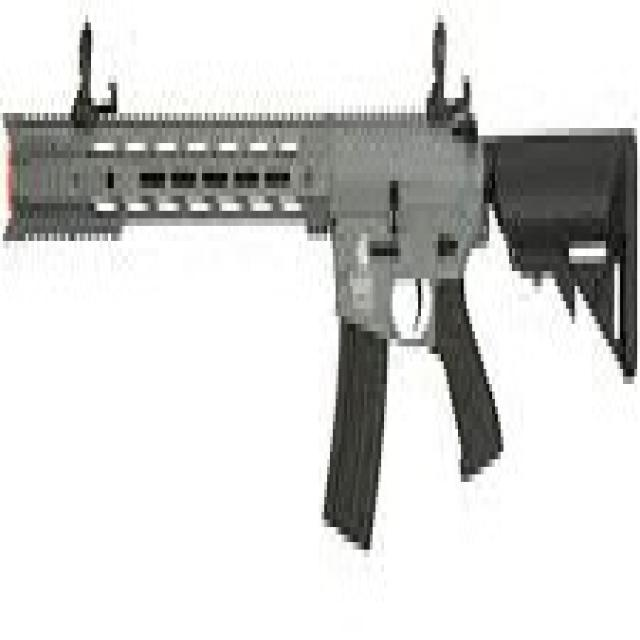rifle: (1, 5, 640, 596)
